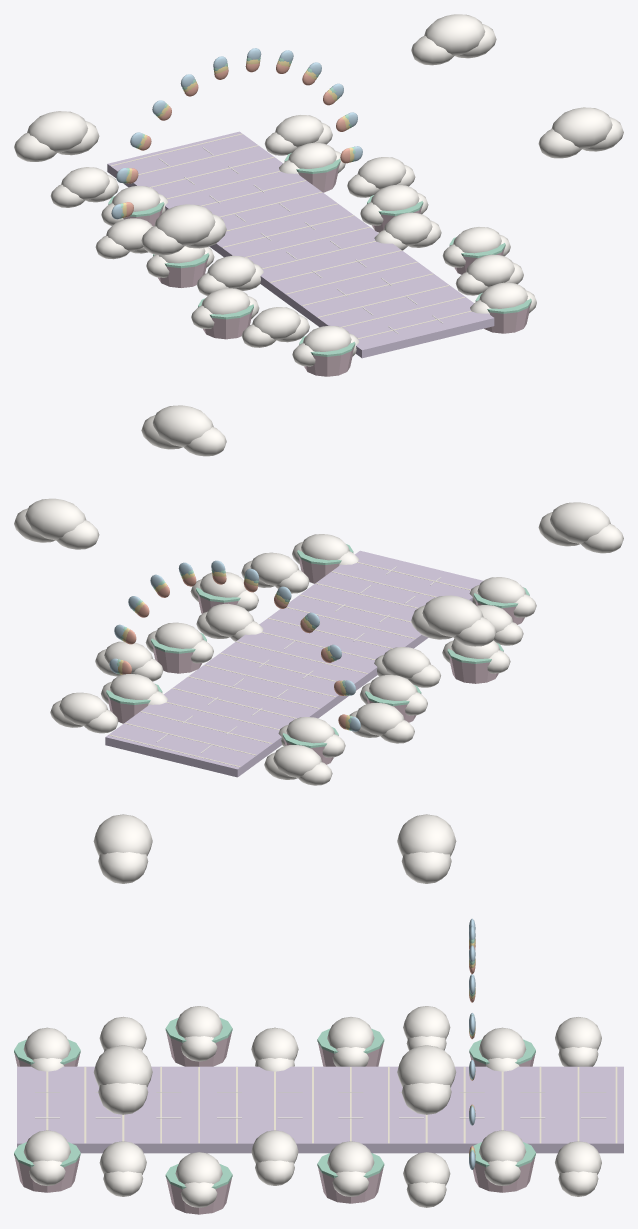
The model's file is hi3d-hi3d-runner-clouds-1-ByABzUin.glb.
3 views of the same model, one above another, from view 1: azimuth 30°, elevation 25°; view 2: azimuth 150°, elevation 25°; view 3: azimuth 270°, elevation 25° (orthographic). The views are drawn at different scales.
Parts seen in each view (by area): view 1: ENV_MAT_white.005, ENV_MAT_lilac.001, ENV_MAT_pink.003, ENV_MAT_cream.006, ENV_MAT_mint.002, ENV_MAT_blue.001, ENV_MAT_coral.002, ENV_MAT_gold.006; view 2: ENV_MAT_white.005, ENV_MAT_lilac.001, ENV_MAT_pink.003, ENV_MAT_cream.006, ENV_MAT_mint.002, ENV_MAT_blue.001, ENV_MAT_coral.002, ENV_MAT_gold.006; view 3: ENV_MAT_lilac.001, ENV_MAT_white.005, ENV_MAT_pink.003, ENV_MAT_mint.002, ENV_MAT_cream.006, ENV_MAT_blue.001.
Boxes of the visible parts, x1,y1,x2,y2 form: ENV_MAT_white.005: (14,14,623,366); ENV_MAT_lilac.001: (107,131,494,358); ENV_MAT_pink.003: (123,163,531,376); ENV_MAT_cream.006: (111,133,471,338); ENV_MAT_mint.002: (108,57,531,356); ENV_MAT_blue.001: (111,48,362,219); ENV_MAT_coral.002: (125,63,350,217); ENV_MAT_gold.006: (122,59,354,217); ENV_MAT_white.005: (14,405,623,785); ENV_MAT_lilac.001: (105,550,483,777); ENV_MAT_pink.003: (107,555,524,764); ENV_MAT_cream.006: (109,562,470,767); ENV_MAT_mint.002: (106,544,529,747); ENV_MAT_blue.001: (109,560,360,731); ENV_MAT_coral.002: (122,575,346,729); ENV_MAT_gold.006: (118,571,349,730); ENV_MAT_lilac.001: (17,1066,623,1153); ENV_MAT_white.005: (23,814,606,1207); ENV_MAT_pink.003: (14,1032,535,1214); ENV_MAT_mint.002: (14,939,535,1188); ENV_MAT_cream.006: (46,1067,617,1143); ENV_MAT_blue.001: (469,918,475,1169).
Bounding box in the file's own units: 43.4 × 14.16 × 40.2.
